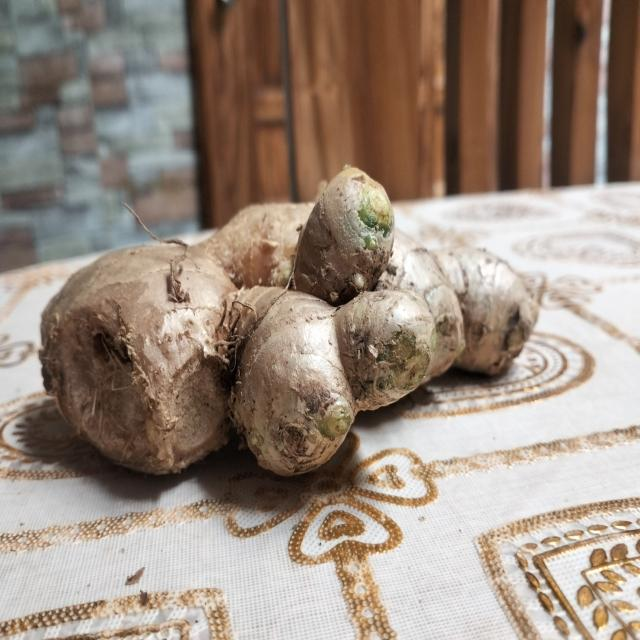ginger: (39, 155, 529, 512)
